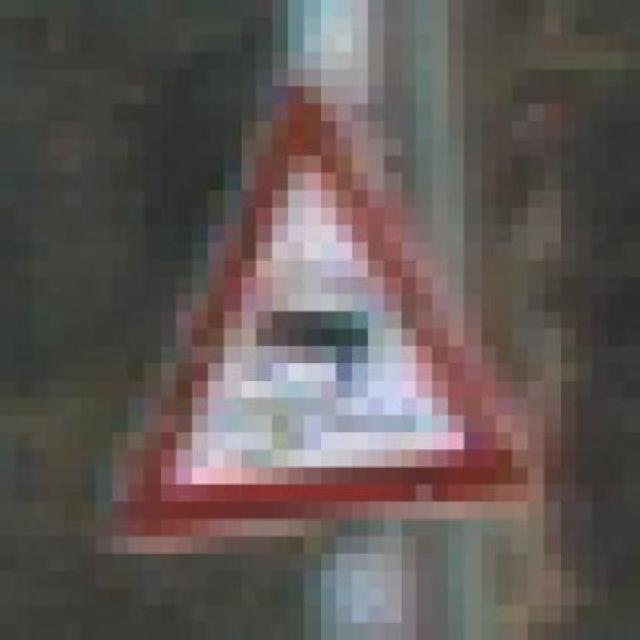Slippery Road Ahead: (111, 52, 544, 554)
